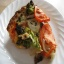pizza: (7, 1, 58, 60)
